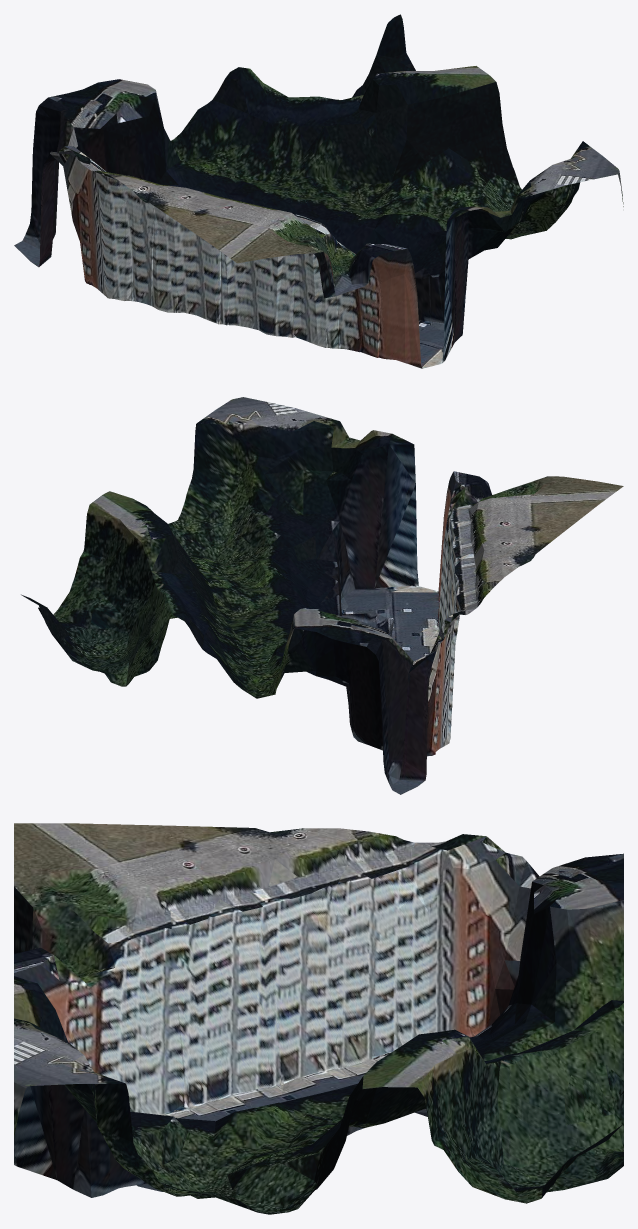
Rendered from map_15_8178_13788.dae.
3 views of the same model, one above another, from view 1: azimuth 30°, elevation 25°; view 2: azimuth 150°, elevation 25°; view 3: azimuth 270°, elevation 25° (orthographic). The views are drawn at different scales.
Parts seen in each view (by area): view 1: Ter0; view 2: Ter0; view 3: Ter0.
Boxes of the visible parts, x1,y1,x2,y2 form: Ter0: [14, 14, 623, 368]; Ter0: [21, 397, 623, 794]; Ter0: [14, 823, 623, 1214].
Bounding box in the file's own units: 63.88 × 63.88 × 25.61.
Materials: 4 (4 with a texture image).
